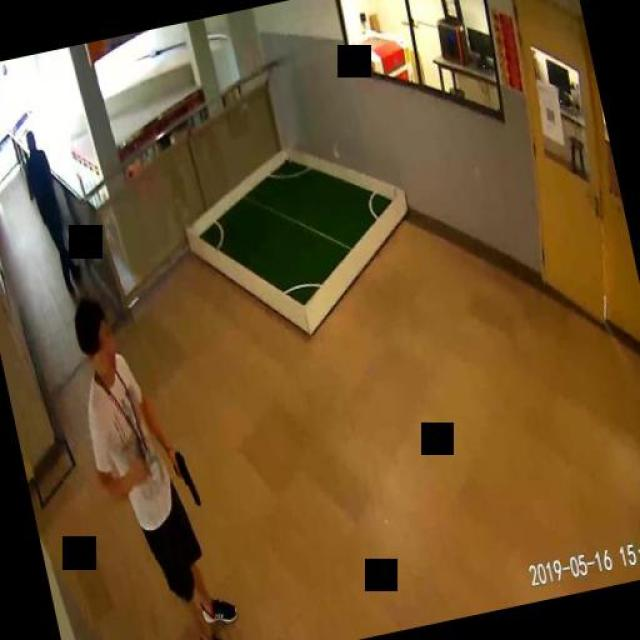gun: (168, 447, 198, 508)
